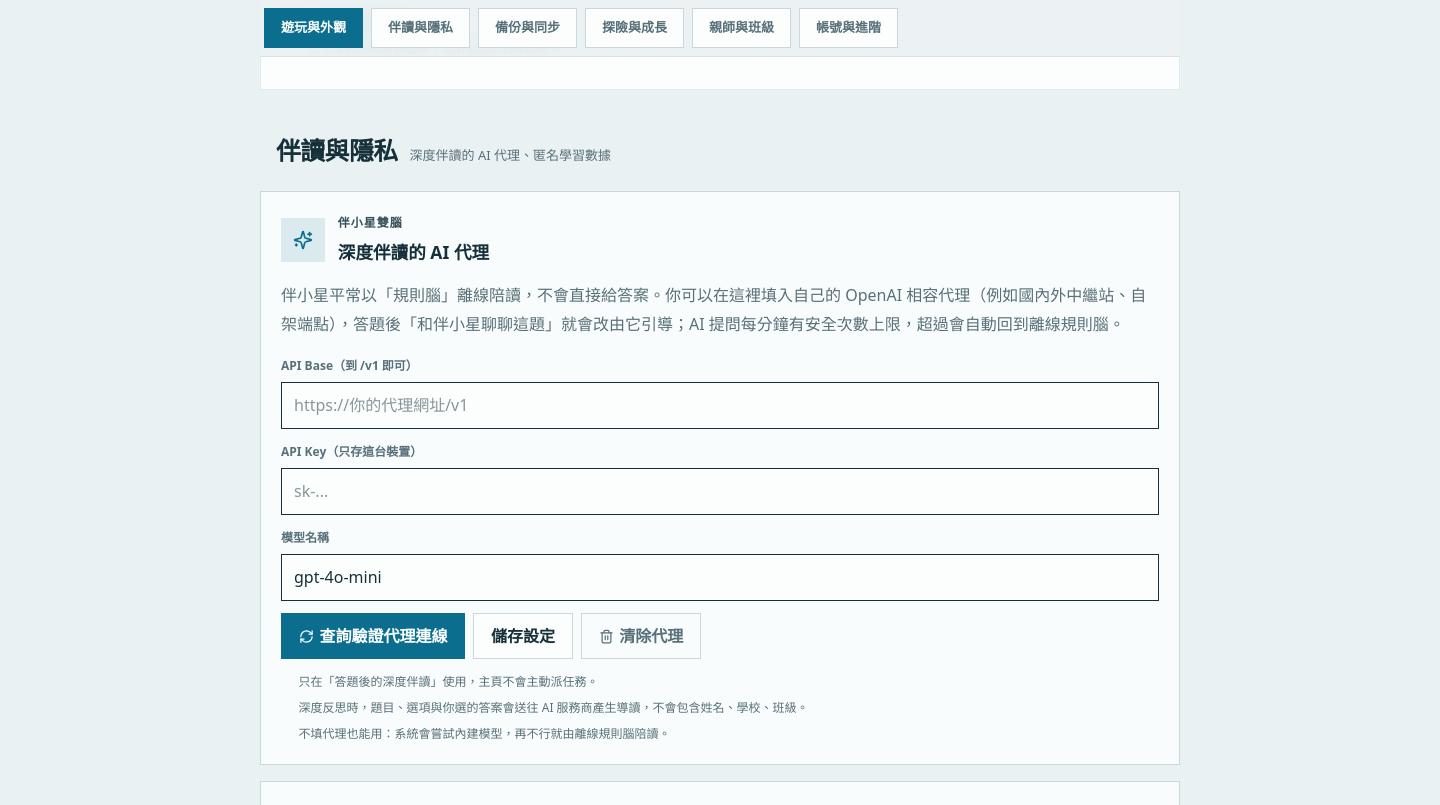
設定頁伴小星雙腦代理 › 查詢驗證失敗（如金鑰錯誤）顯示錯誤訊息
(page scrolled)
In the field labelled "API Base（到 /v1 即可）": (720, 405) [281,382,1159,429], type "https://proxy.example.com/v1"
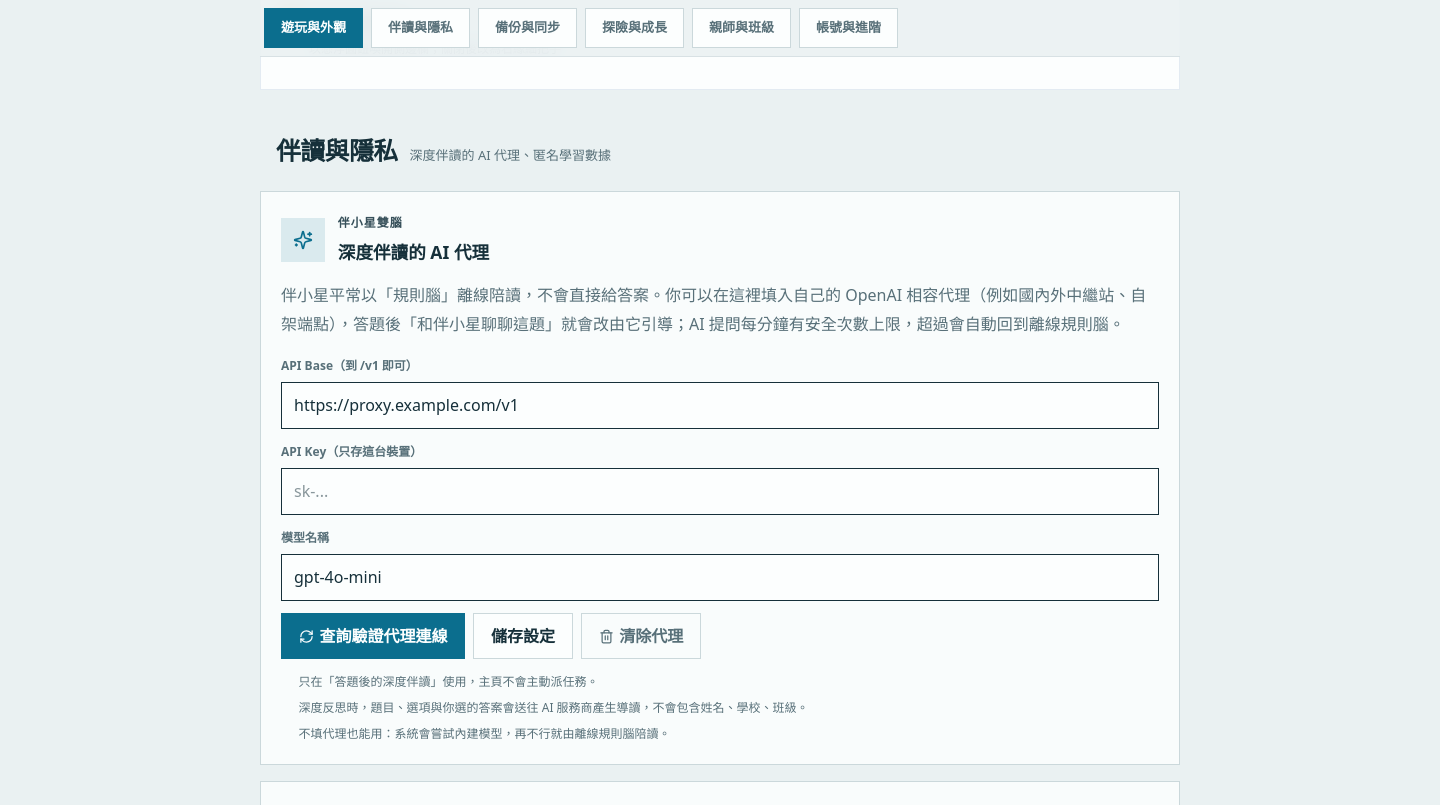
In the password field labelled "API Key（只存這台裝置）": (720, 491) [281,468,1159,515], type "bad"
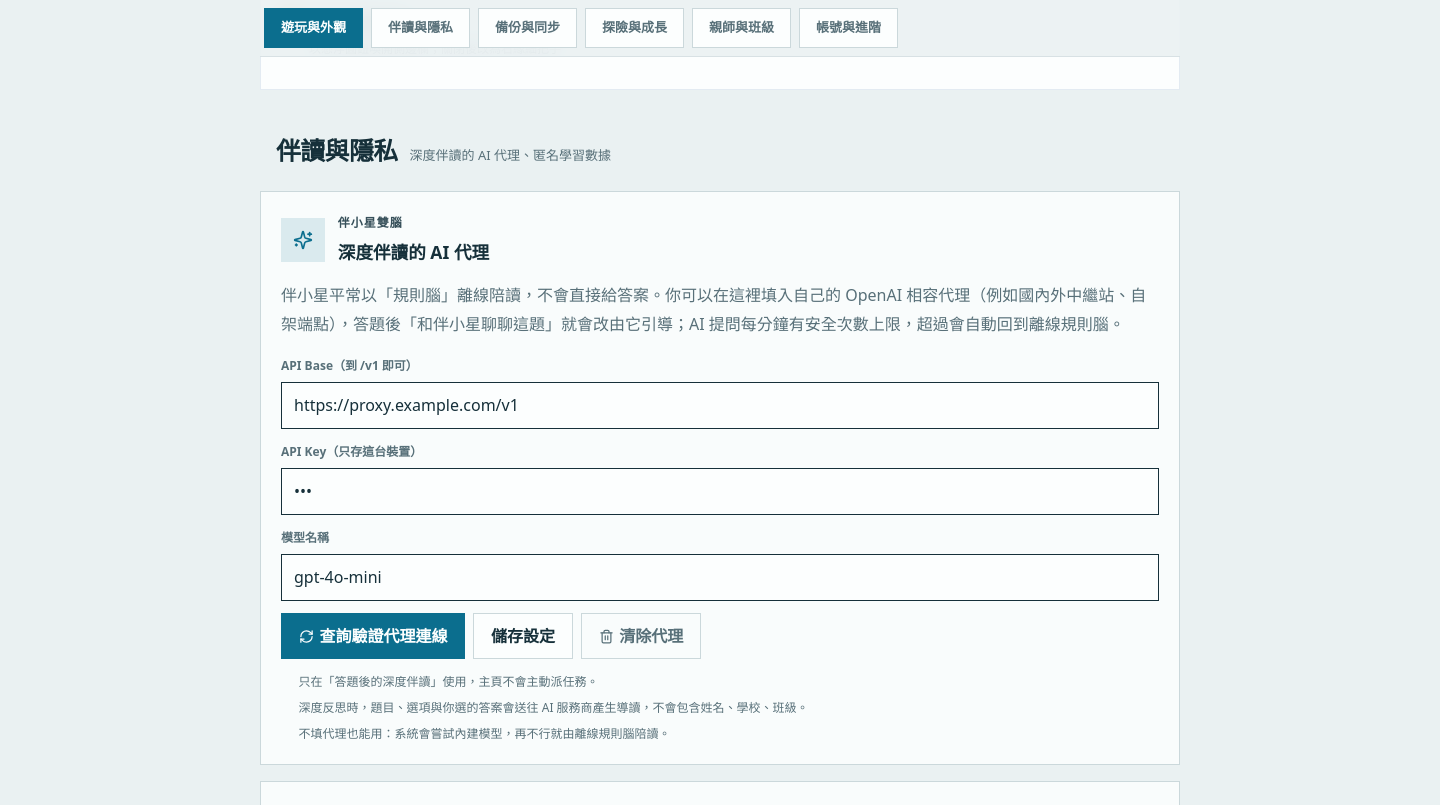
Click the button "查詢驗證代理連線": (373, 636) [281,613,465,660]
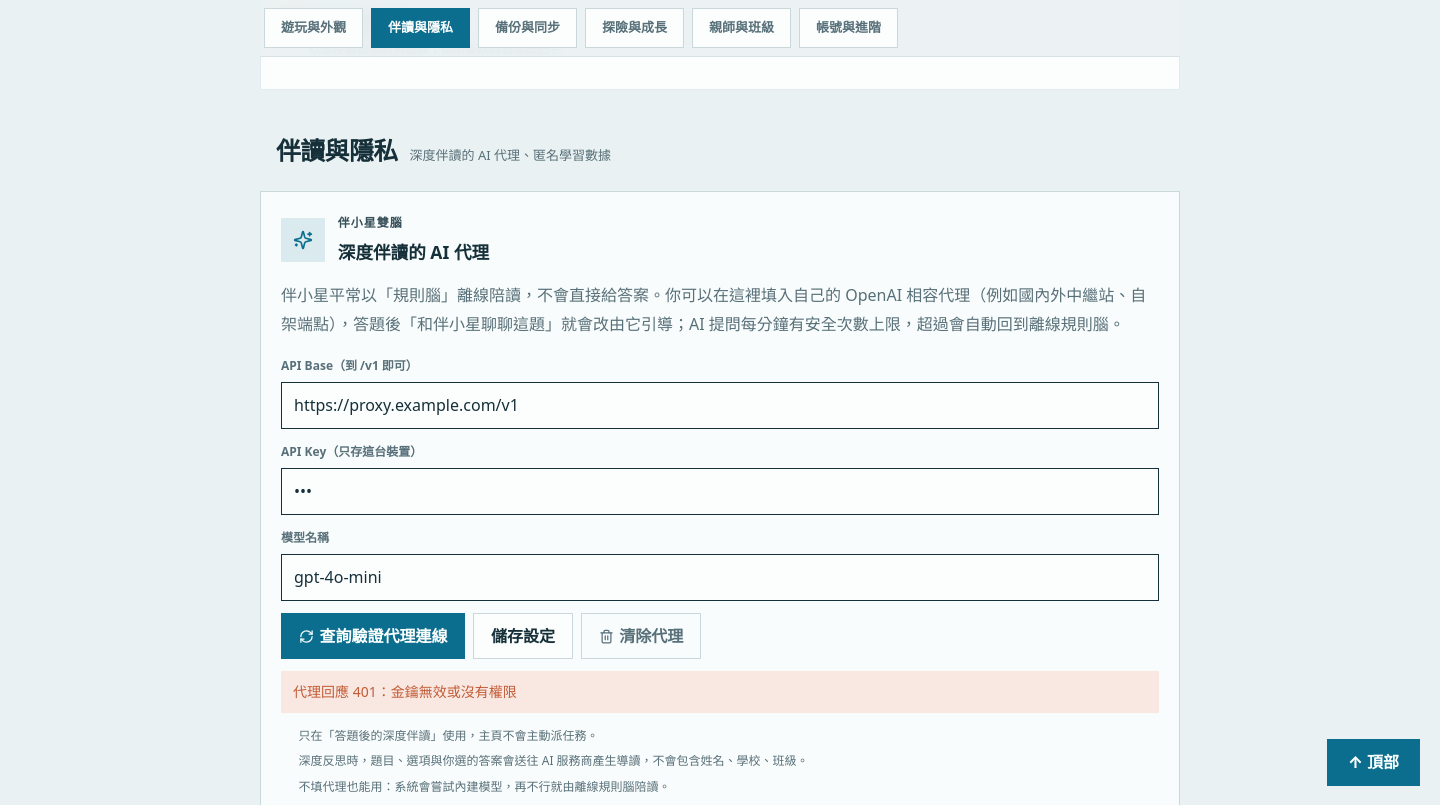
expect the message shows "401": met, box [293,682,517,702]
